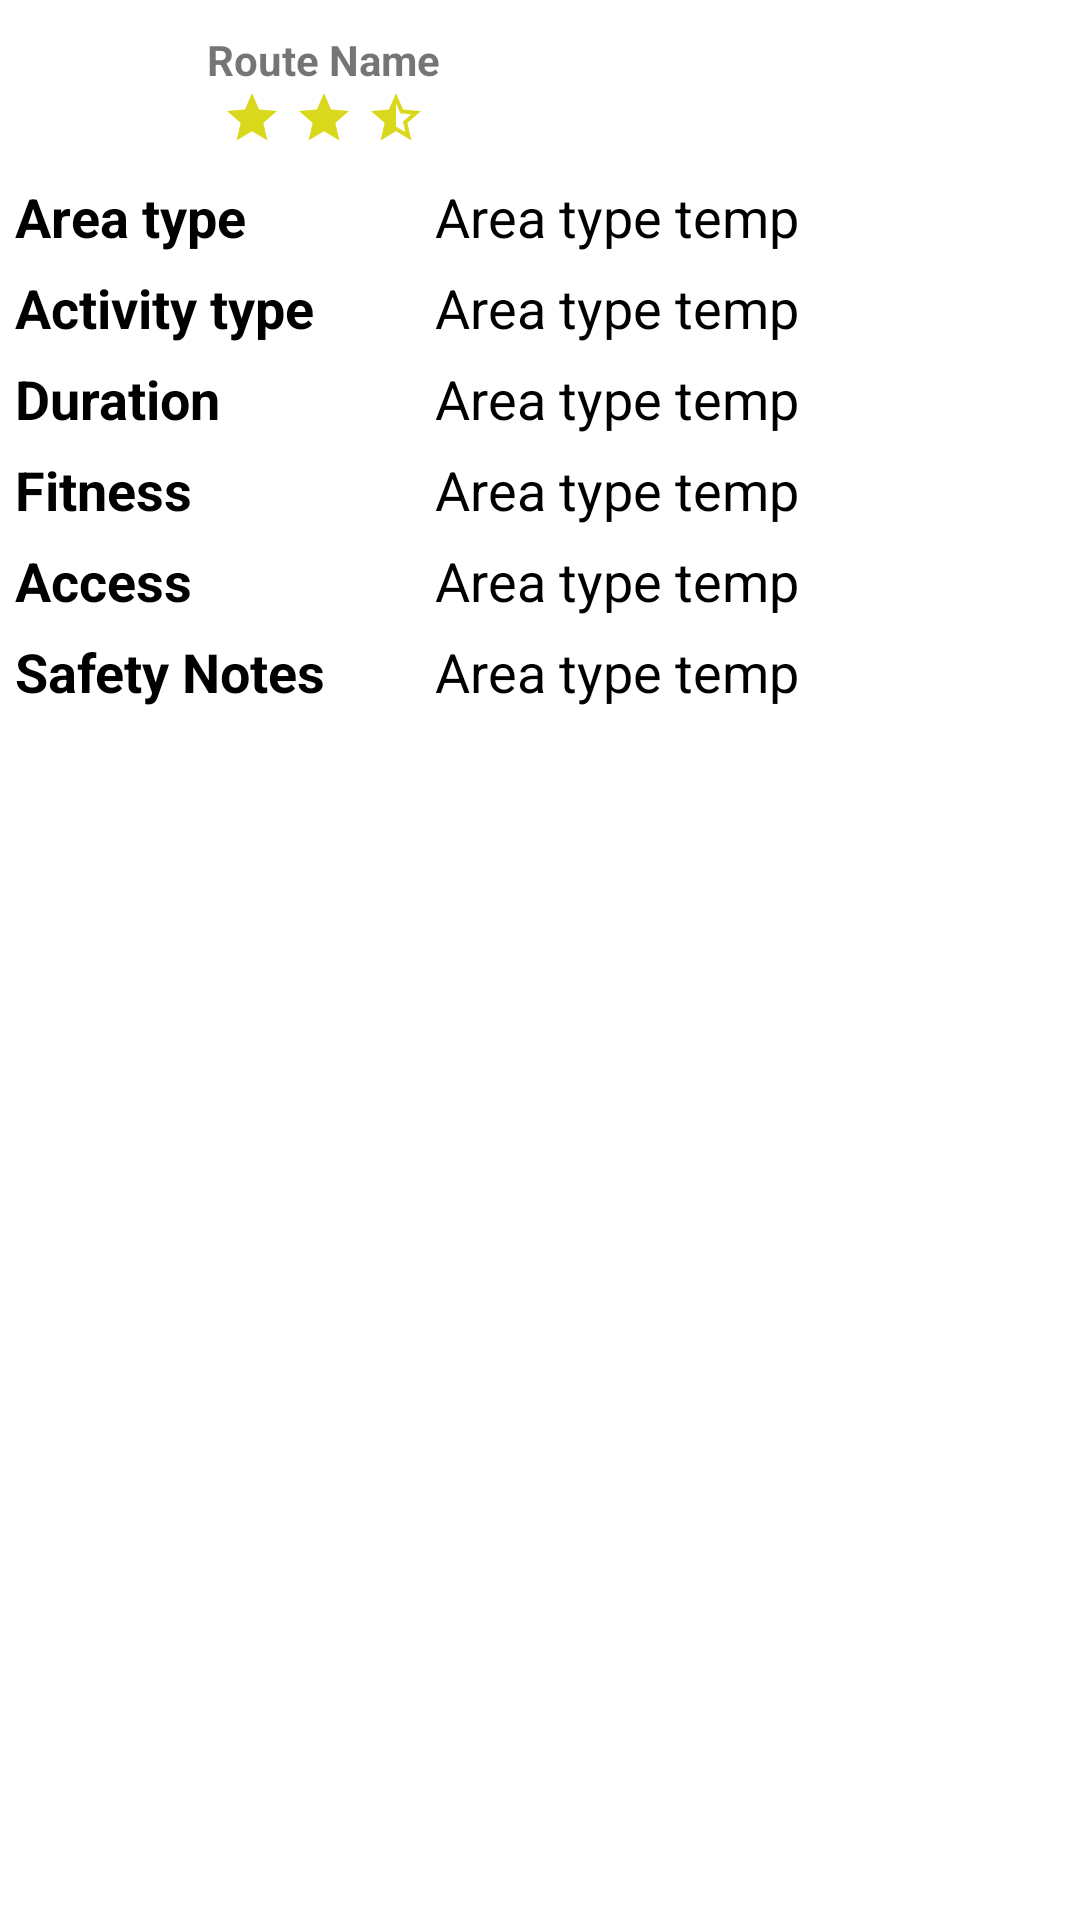

Locate icon controls on the screen. Image size 1080px×1920px, boxes as [x1=x1, y1=y1, x2=x2, y2=y2].
star full: [x1=227, y1=93, x2=277, y2=141], [x1=299, y1=93, x2=349, y2=141]
star half: [x1=371, y1=93, x2=421, y2=141]
